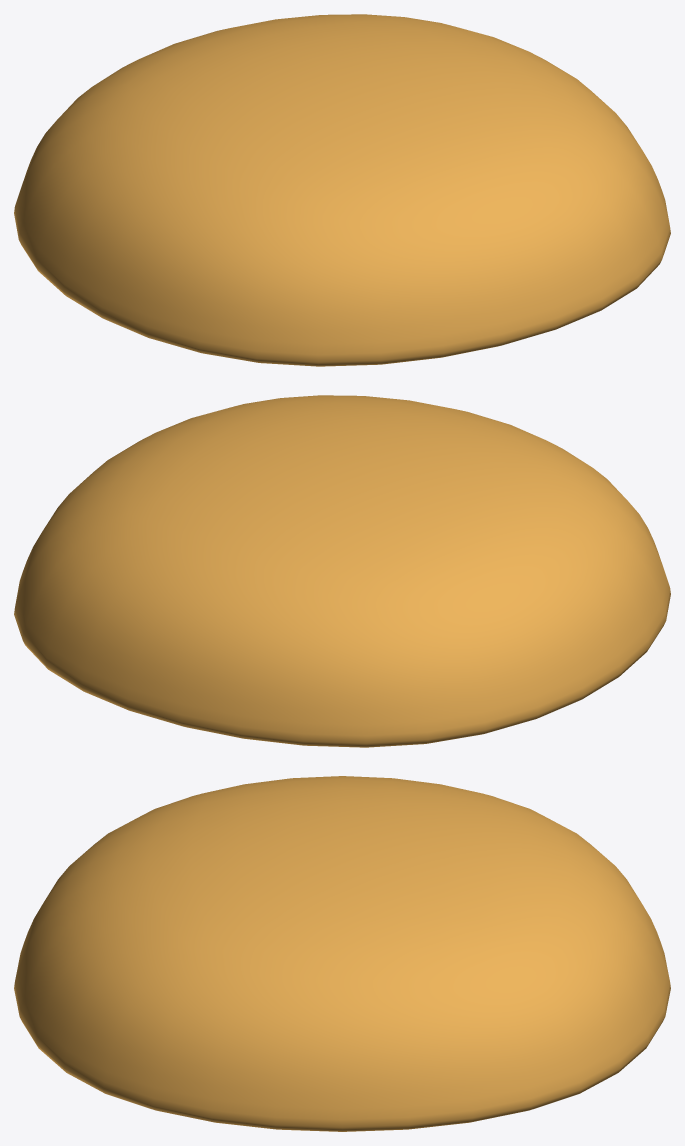
File: TopBun.glb
The picture shows the model from 3 angles, top to bottom: view 1: azimuth 30°, elevation 25°; view 2: azimuth 150°, elevation 25°; view 3: azimuth 270°, elevation 25°; orthographic projection. The views are drawn at different scales.
Parts seen in each view (by area): view 1: Pan Superior; view 2: Pan Superior; view 3: Pan Superior.
Boxes of the visible parts, x1=… form: Pan Superior: x1=14, y1=14, x2=670, y2=366; Pan Superior: x1=14, y1=395, x2=670, y2=747; Pan Superior: x1=14, y1=776, x2=670, y2=1131.
Bounding box in the file's own units: 1.88 × 0.5026 × 1.88.
